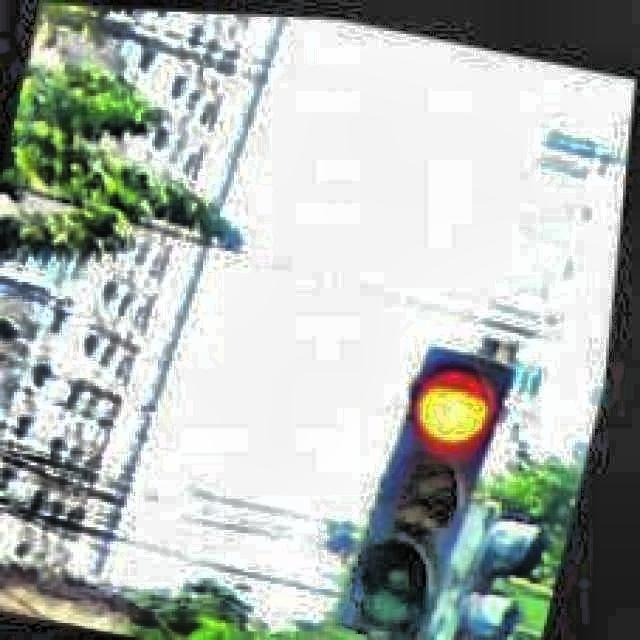red: (335, 345, 514, 635)
